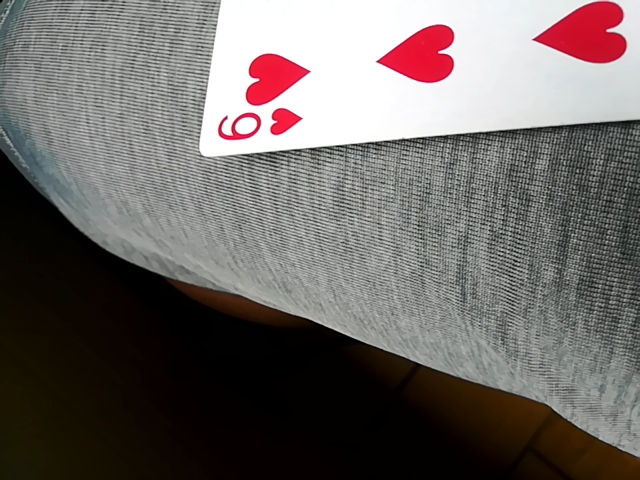hx 6: (192, 0, 640, 156)
